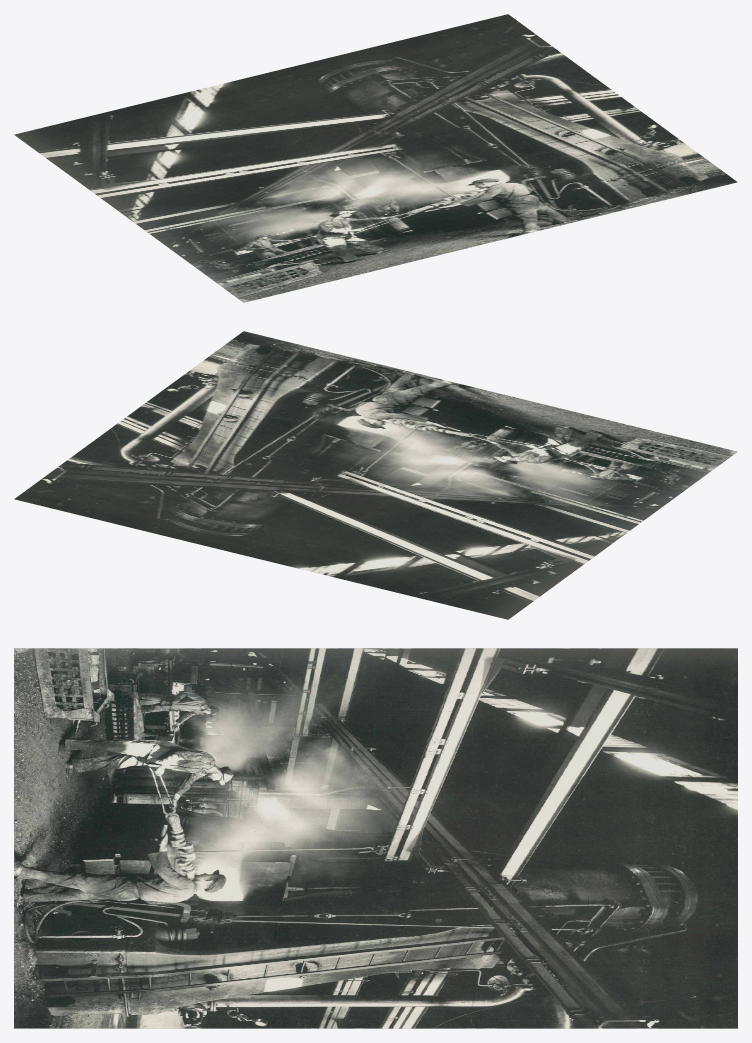
File: foto_test_pressatura.obj
3 renders of one model, top to bottom at view 1: azimuth 30°, elevation 25°; view 2: azimuth 150°, elevation 25°; view 3: azimuth 270°, elevation 25°, orthographic. The views are drawn at different scales.
Parts seen in each view (by area): view 1: Plane001; view 2: Plane001; view 3: Plane001.
Boxes of the visible parts, x1=… form: Plane001: x1=14, y1=14, x2=737, y2=302; Plane001: x1=14, y1=331, x2=737, y2=619; Plane001: x1=14, y1=648, x2=737, y2=1028.
Size of the model in its own units: 6.3 by 0 by 5.07.
